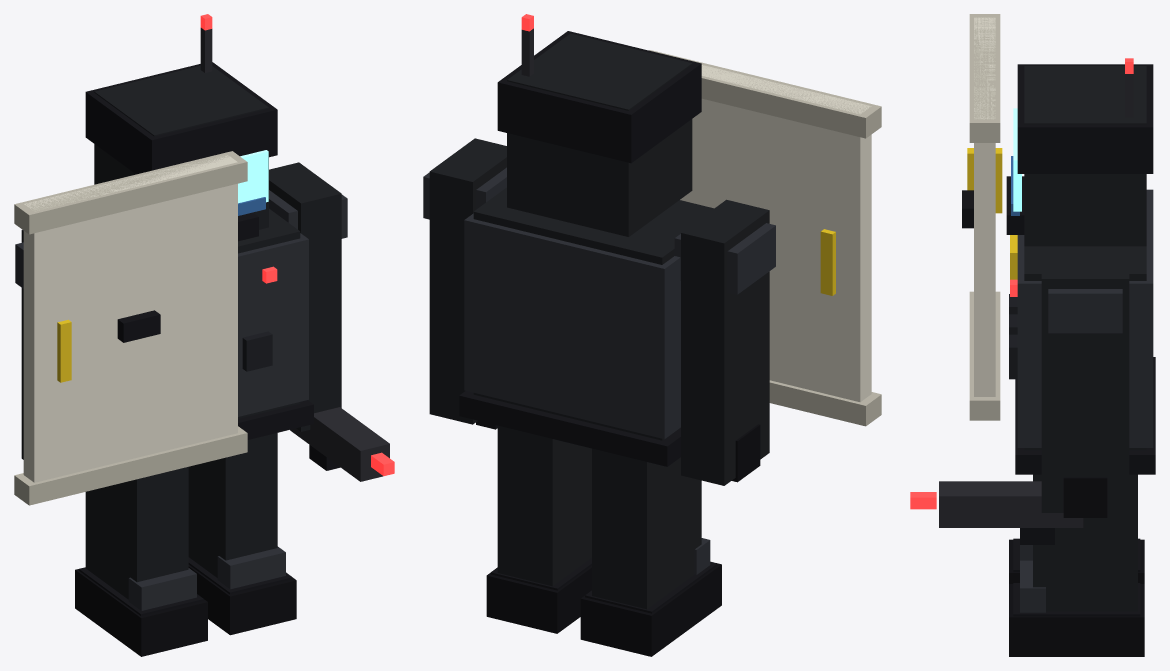
The model's file is villains__swat.glb.
3 renders of one model, left to right at view 1: azimuth 30°, elevation 25°; view 2: azimuth 150°, elevation 25°; view 3: azimuth 270°, elevation 25°, orthographic. The views are drawn at different scales.
Parts seen in each view (by area): view 1: rig_armL, villains__swat, rig_legL, rig_legR, rig_armR; view 2: villains__swat, rig_armL, rig_legL, rig_legR, rig_armR; view 3: villains__swat, rig_armR, rig_legR, rig_armL, rig_legL.
Boxes of the visible parts, box(x1,y1,x2,y2) form: rig_armL: box(14, 151, 247, 505); villains__swat: box(85, 14, 313, 439); rig_legL: box(75, 467, 207, 656); rig_legR: box(188, 433, 296, 635); rig_armR: box(269, 162, 394, 481); villains__swat: box(459, 14, 713, 466); rig_armL: box(649, 50, 881, 485); rig_legL: box(580, 448, 721, 656); rig_legR: box(486, 425, 591, 633); rig_armR: box(423, 138, 506, 429); villains__swat: box(1006, 58, 1155, 474); rig_armR: box(910, 258, 1129, 544); rig_legR: box(1009, 474, 1144, 656); rig_armL: box(962, 14, 1002, 420); rig_legL: box(1009, 538, 1144, 583).
Bounding box in the file's own units: 1.93 × 2.93 × 1.12.
